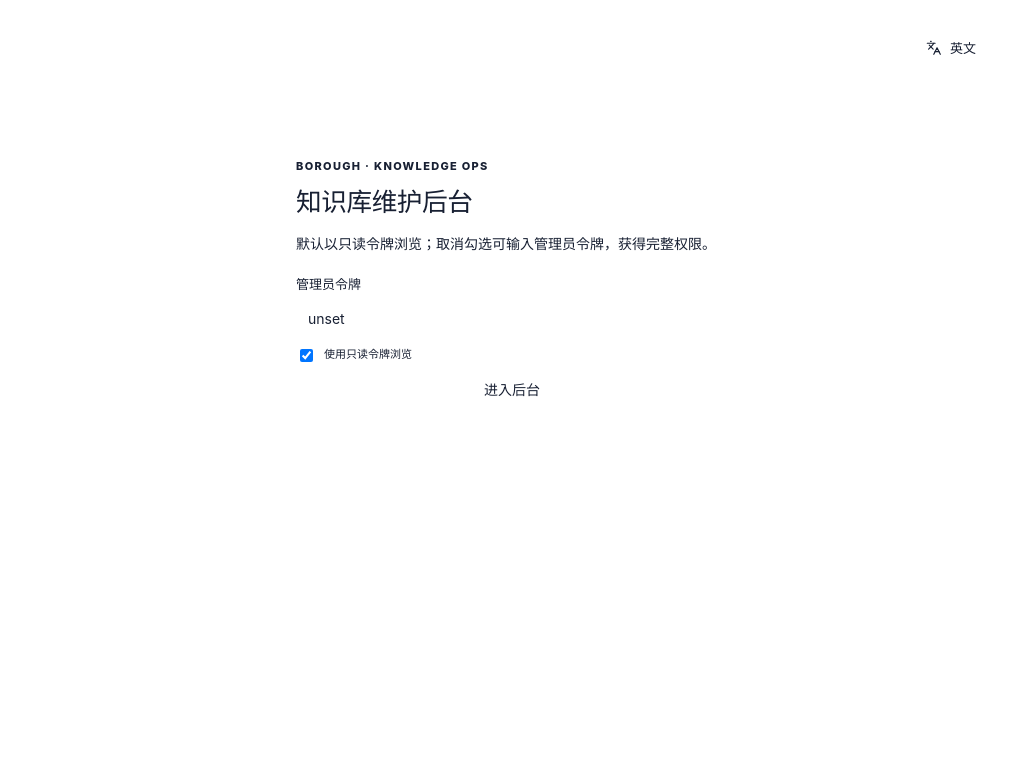
KnowledgeBaseView en-US 下确定性文案为英文 › 非 Error 且无状态码的异常按「可重试」展示英文文案，不泄露非预期抛出值
Replace the text in the field labelled "管理员令牌" with "bad-token": {"x": 512, "y": 320} [296,302,728,338]
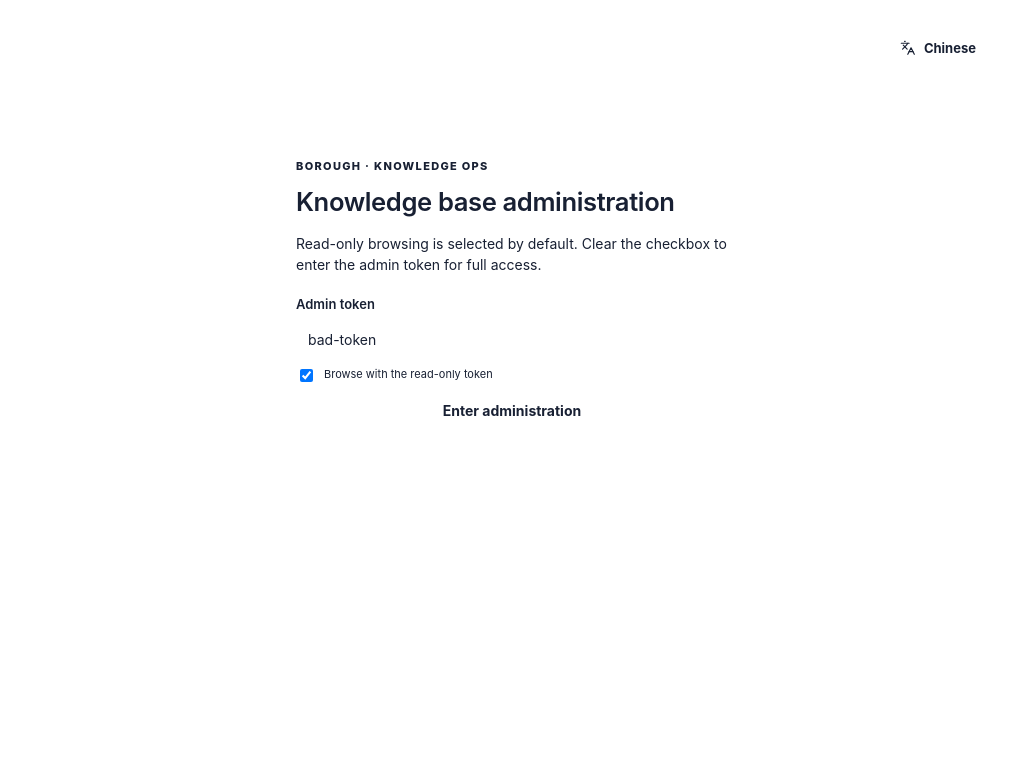
Submit the form, box [296,295,728,429]
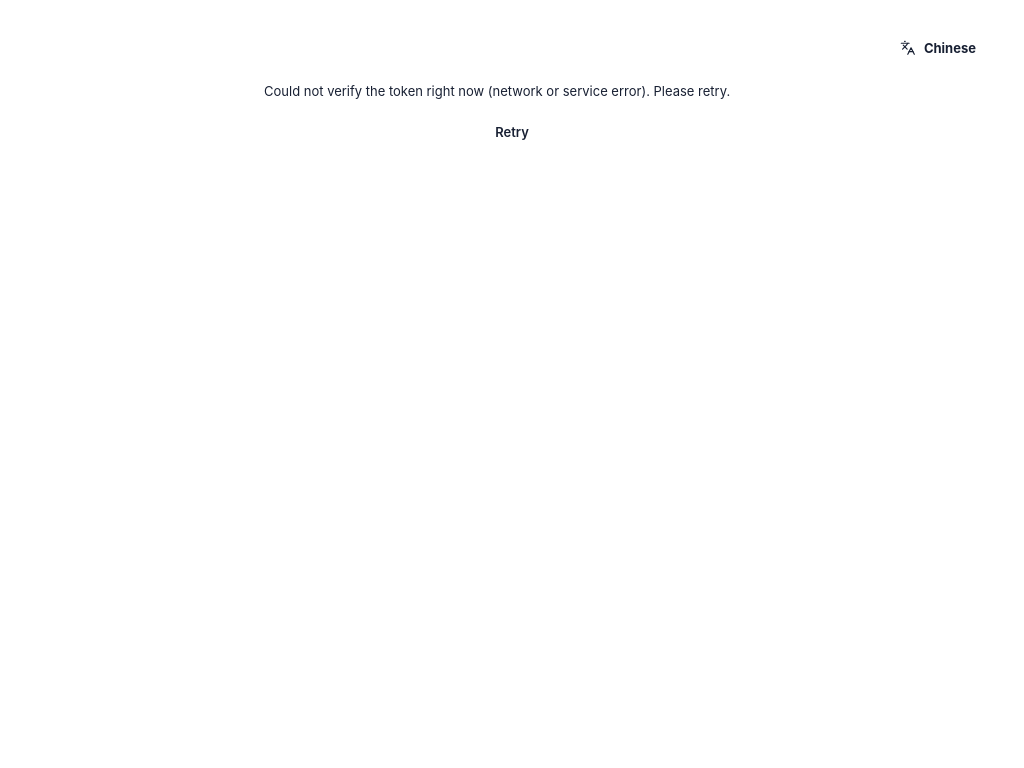
expect the text "Could not verify the token right now" is shown: met, box [264,83,730,99]
